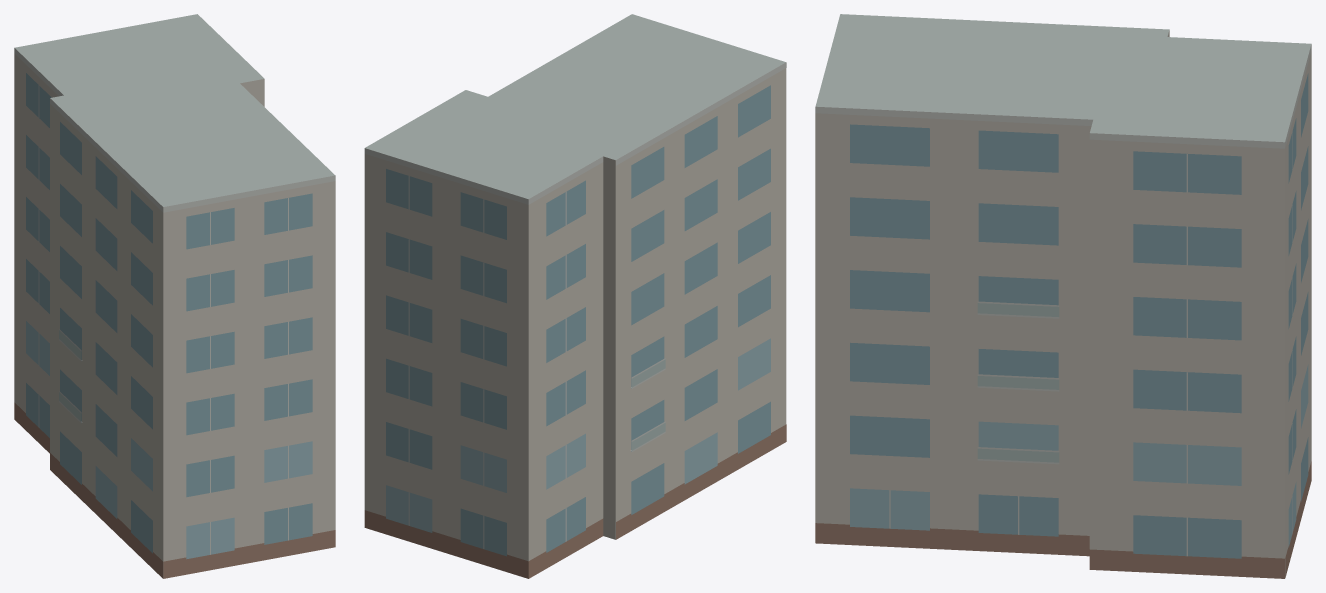
Rendered from survey-upis-32567201.glb.
3 views of the same model, side by side, from view 1: azimuth 30°, elevation 25°; view 2: azimuth 150°, elevation 25°; view 3: azimuth 270°, elevation 25° (orthographic). The views are drawn at different scales.
Visible parts, largest first — view 1: survey-upis-32567201.tmp; view 2: survey-upis-32567201.tmp; view 3: survey-upis-32567201.tmp.
Part boxes in pixels (x1,y1,x2,y2): survey-upis-32567201.tmp: (14,14,335,578); survey-upis-32567201.tmp: (364,14,786,578); survey-upis-32567201.tmp: (815,14,1311,578).
Size of the model in its own units: 10.31 by 16.35 by 16.85.
